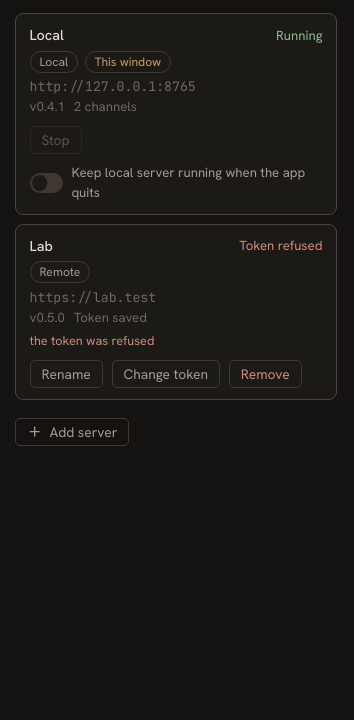
Test case: ServersSection (MS-05) › a refused add keeps the form and says why (MS-05)
The image size is (354, 720).
Click the button "Add server" at point(72, 432), box [15,418,129,446]
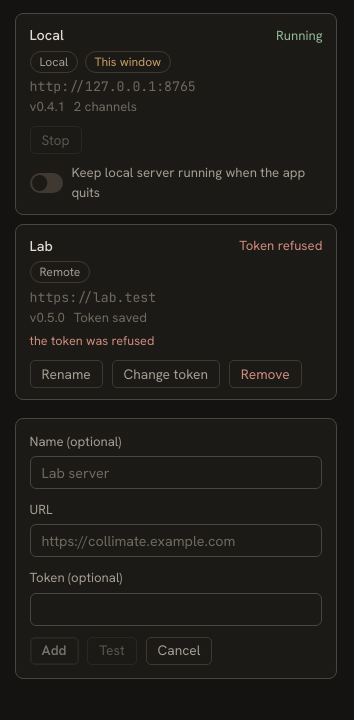
Type "https://lab.test" into the field labelled "URL" at point(176, 541), box [30,524,322,557]
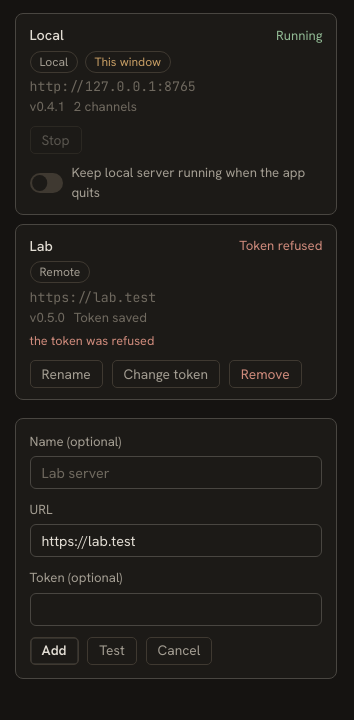
Click the button "Add" at point(54, 651), box [30,636,79,665]
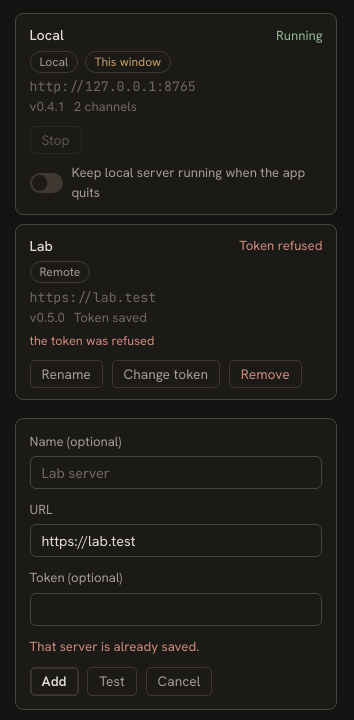
Result: the message reads "That server is already saved." at [30,638,199,654]
